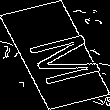M_E: (10, 25, 100, 85)
